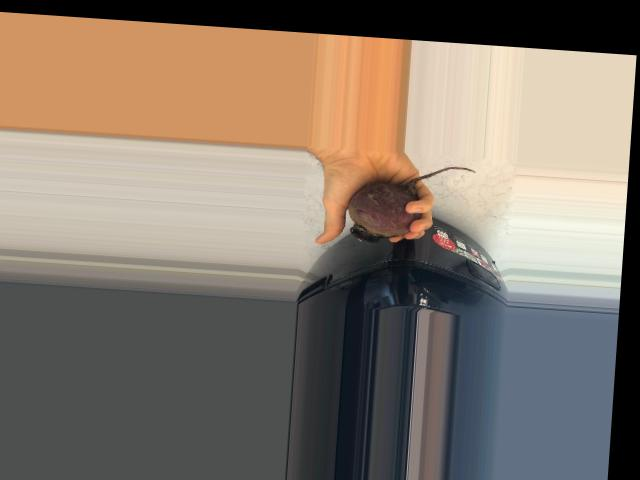beet: (347, 159, 476, 249)
